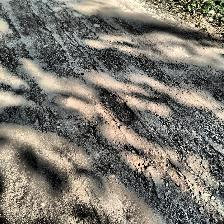pothole: (93, 90, 136, 130)
